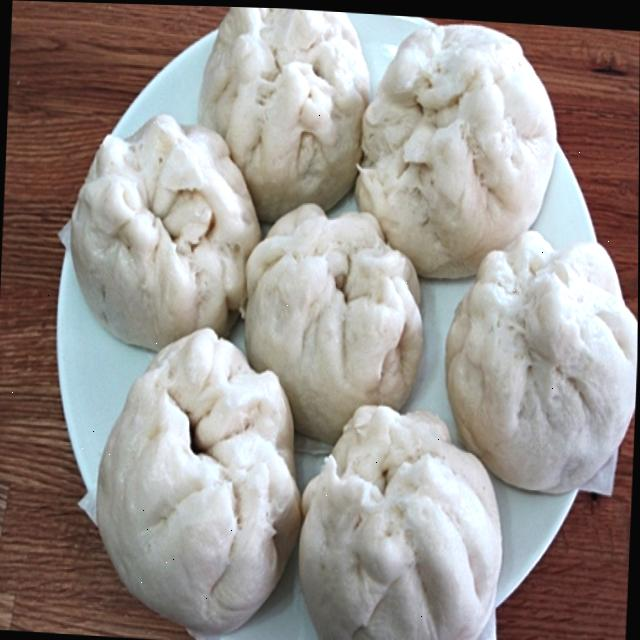带馅早点: (8, 0, 640, 640)
